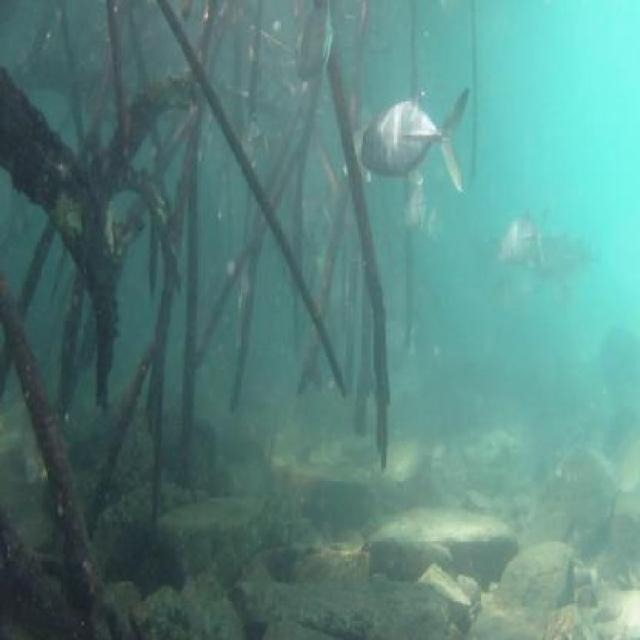Caranx_sexfasciatus_juvenile: (354, 88, 472, 200), (523, 218, 600, 288), (291, 5, 338, 116), (494, 206, 538, 282), (398, 174, 440, 243), (232, 116, 270, 186)
